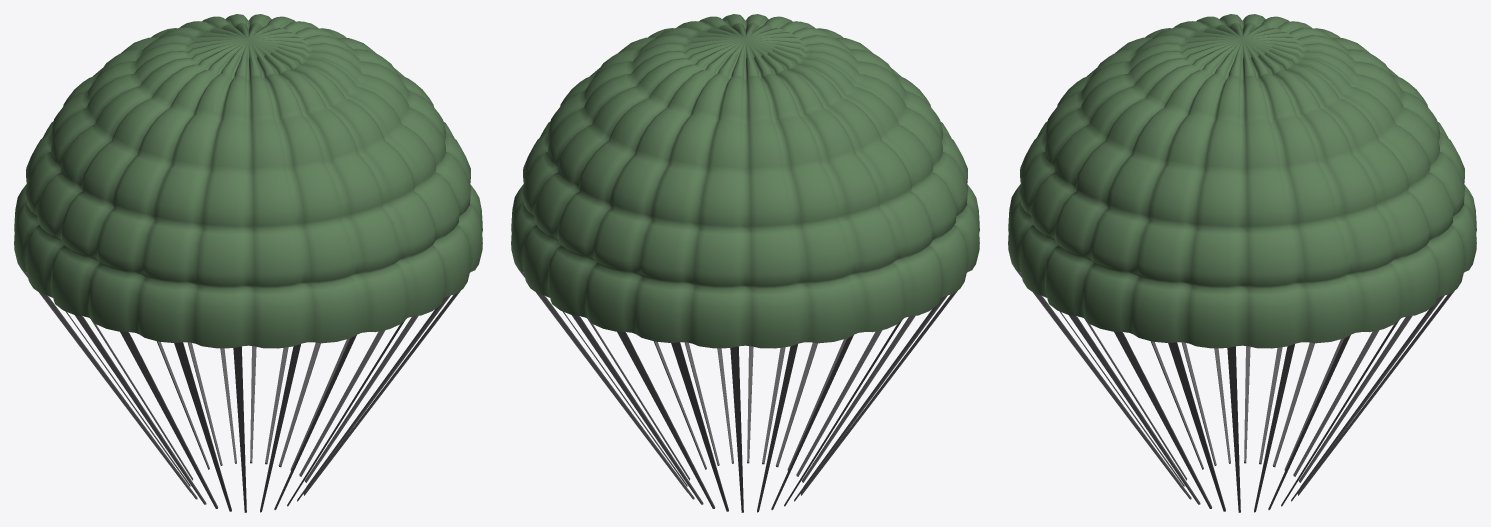
File: JIangluosan.fbx
3 renders of one model, left to right at view 1: azimuth 30°, elevation 25°; view 2: azimuth 150°, elevation 25°; view 3: azimuth 270°, elevation 25°, orthographic.
Parts seen in each view (by area): view 1: jiangluosan1; view 2: jiangluosan1; view 3: jiangluosan1.
Part boxes in pixels (<box>): jiangluosan1: <box>14,14,482,512</box>; jiangluosan1: <box>511,14,979,512</box>; jiangluosan1: <box>1008,14,1476,512</box>.
Size of the model in its own units: 104 by 110 by 104.
